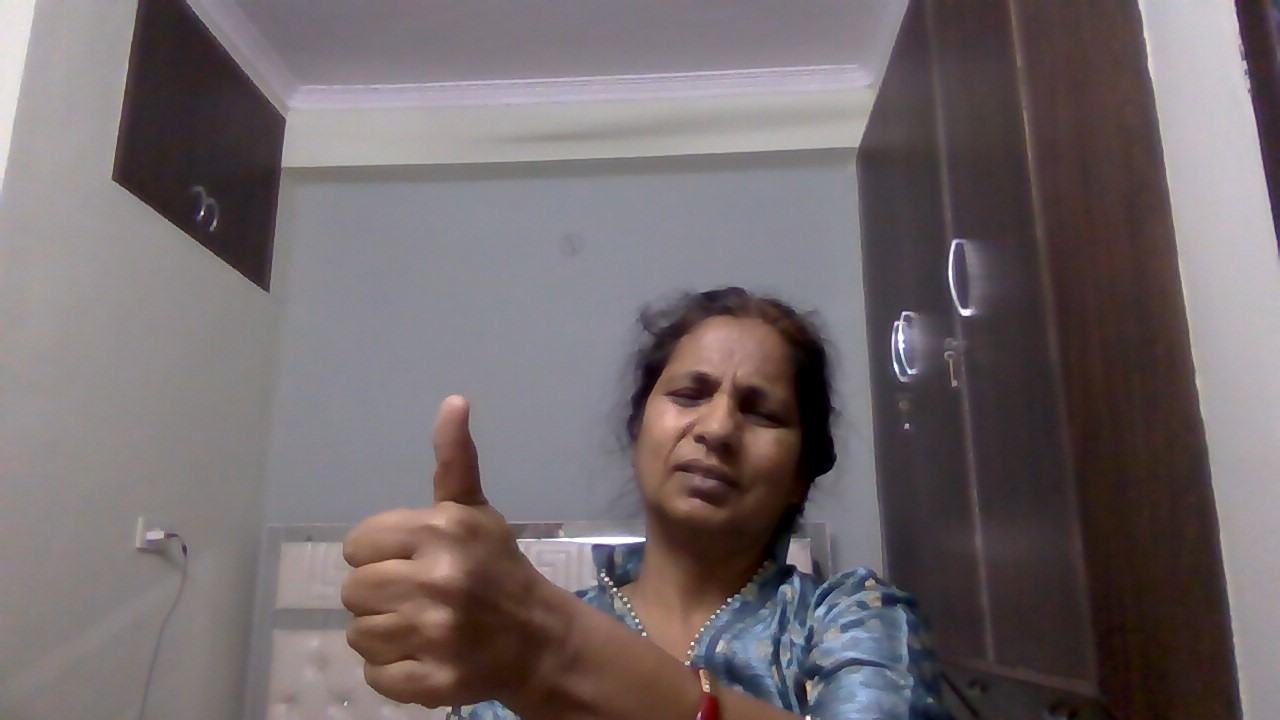Save: (328, 385, 562, 716)
